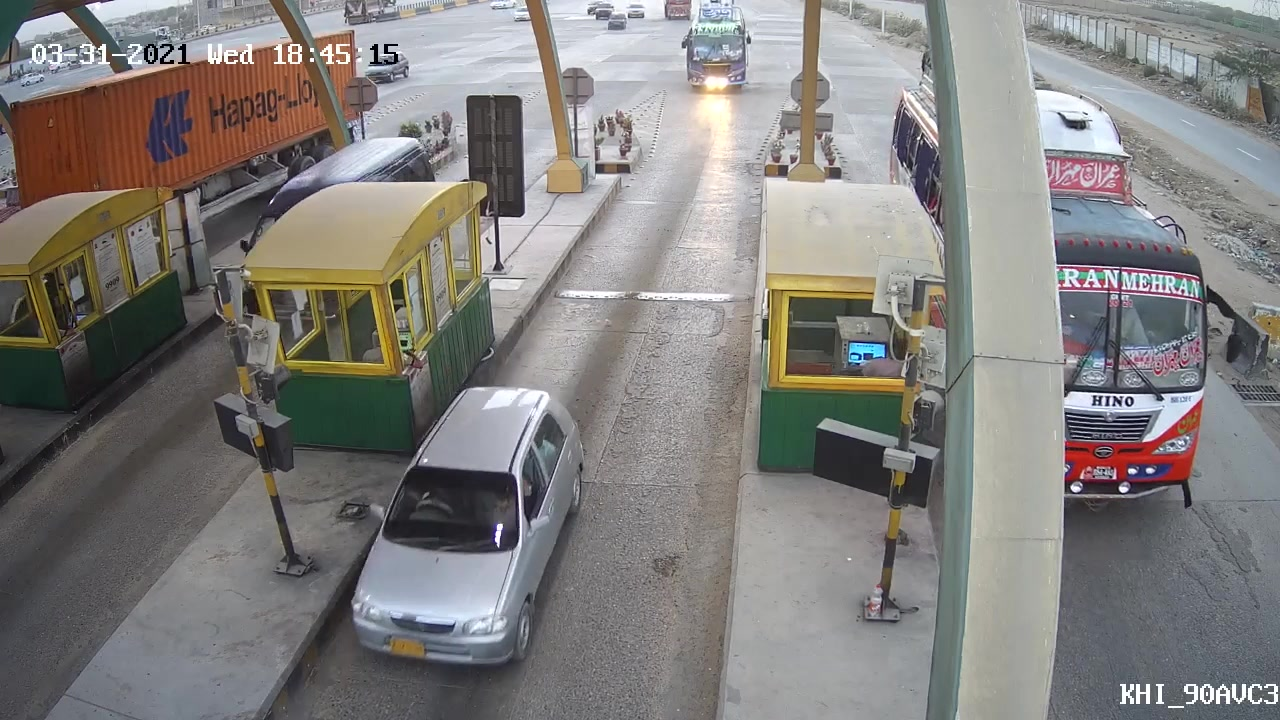F1: (336, 384, 593, 675)
